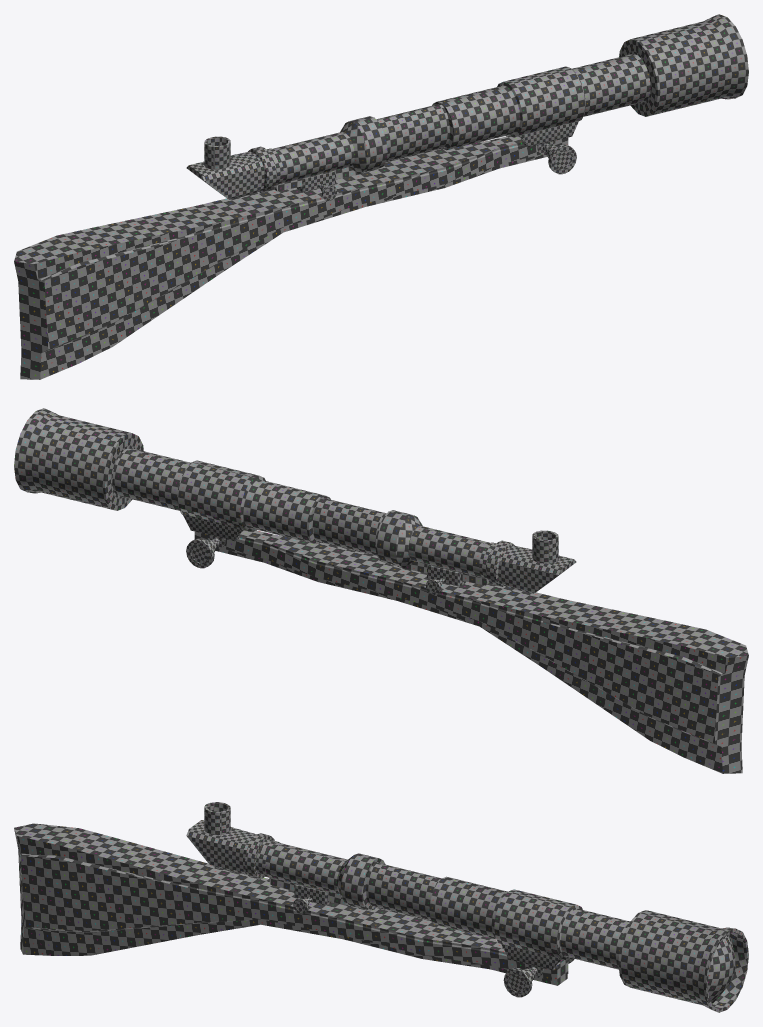
Rendered from Telescope (2).glb.
3 renders of one model, top to bottom at view 1: azimuth 30°, elevation 25°; view 2: azimuth 150°, elevation 25°; view 3: azimuth 330°, elevation 25°, orthographic.
Parts seen in each view (by area): view 1: Grip, Base, Tail, Grip.002, Grip.001; view 2: Grip, Base, Tail, Grip.002, Grip.001; view 3: Grip, Base, Tail, Grip.002, Grip.001.
Boxes of the visible parts, x1=… form: Grip: x1=14, y1=136, x2=568, y2=379; Base: x1=273, y1=14, x2=748, y2=191; Tail: x1=186, y1=136, x2=283, y2=199; Grip.002: x1=506, y1=121, x2=578, y2=174; Grip.001: x1=296, y1=171, x2=337, y2=200; Grip: x1=194, y1=530, x2=748, y2=773; Base: x1=14, y1=408, x2=489, y2=585; Tail: x1=479, y1=530, x2=576, y2=593; Grip.002: x1=182, y1=514, x2=256, y2=568; Grip.001: x1=425, y1=565, x2=466, y2=594; Grip: x1=14, y1=823, x2=568, y2=985; Base: x1=265, y1=842, x2=748, y2=1012; Tail: x1=186, y1=802, x2=280, y2=879; Grip.002: x1=501, y1=943, x2=574, y2=997; Grip.001: x1=293, y1=884, x2=332, y2=913.
Bounding box in the file's own units: 1.54 × 0.3906 × 0.1754.
4 materials, 4 textured.
